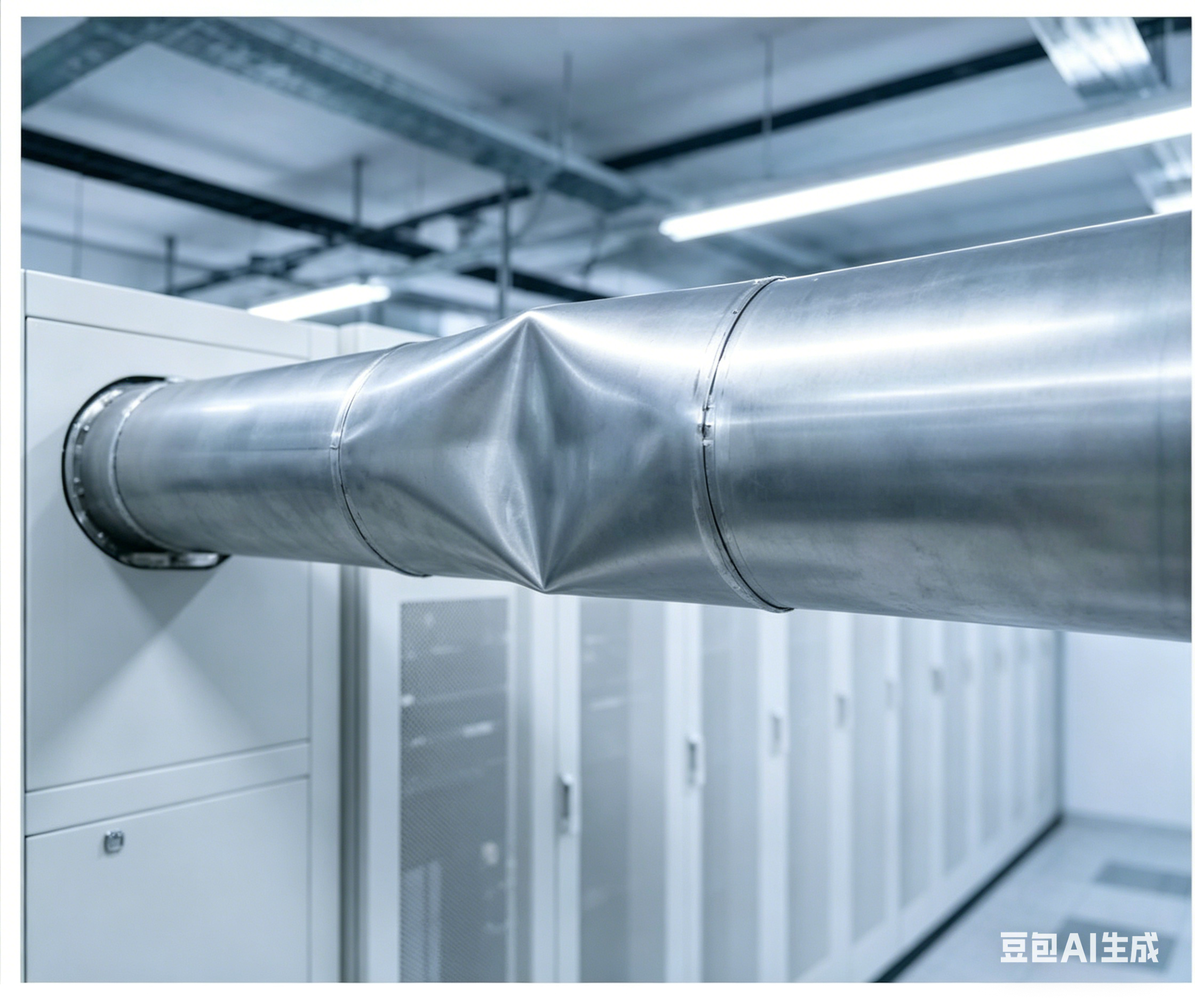Leakage: (431, 317, 690, 595)
